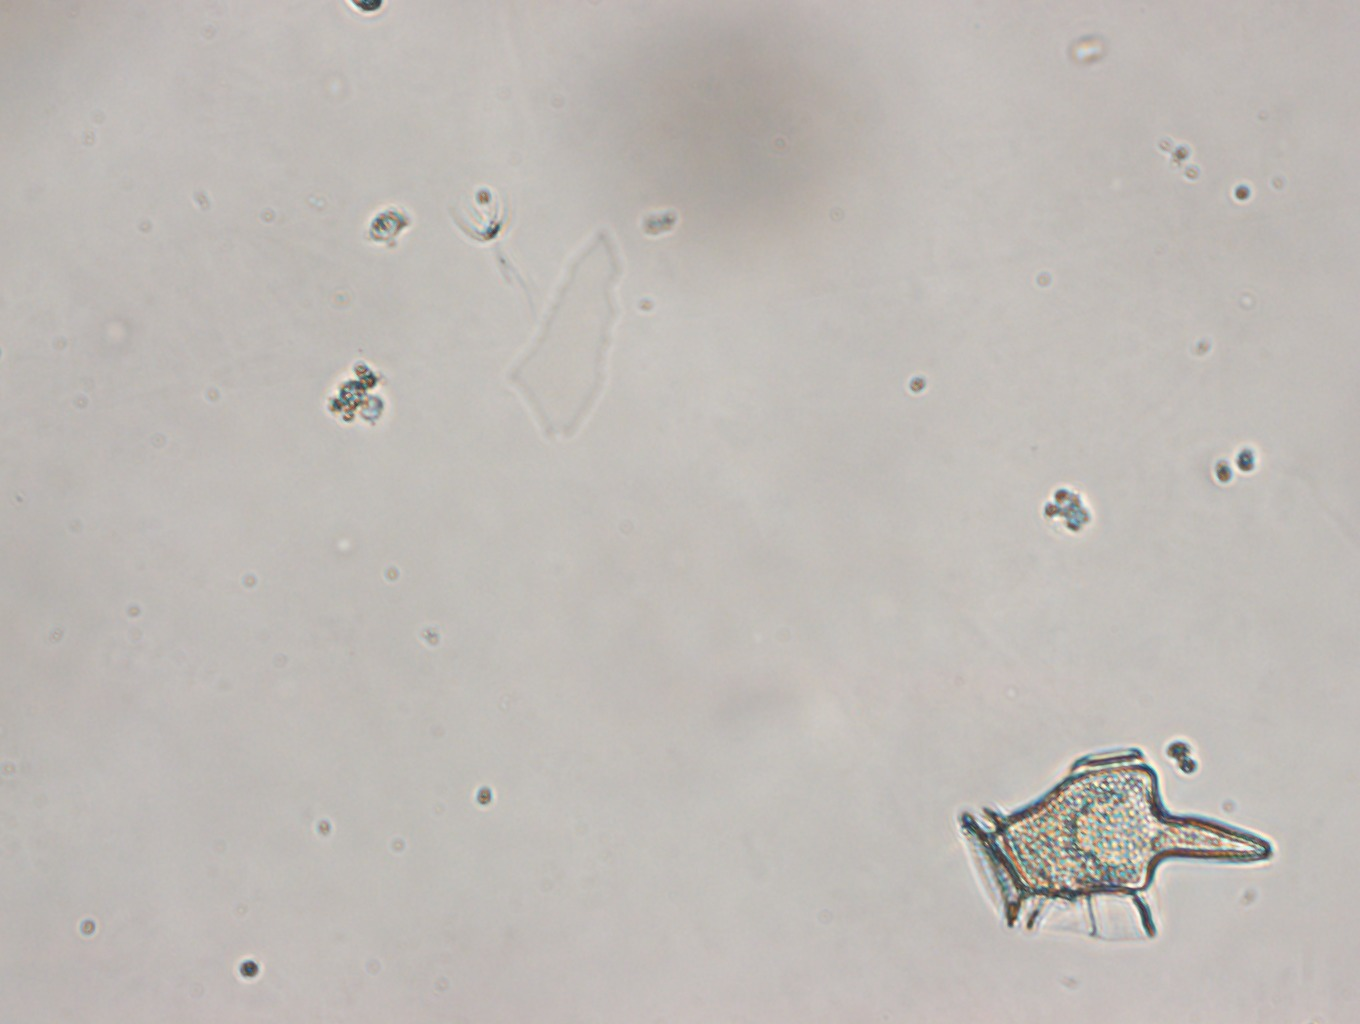dinophysis caudata: (954, 741, 1279, 952)
